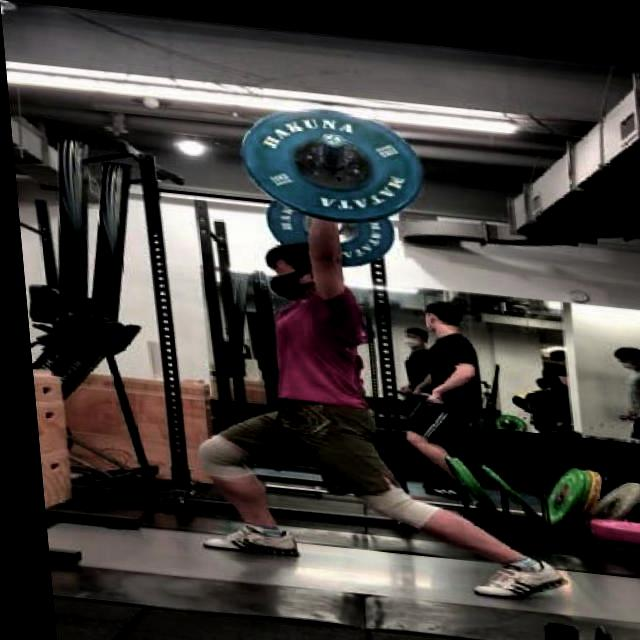barbell: (232, 93, 427, 226)
